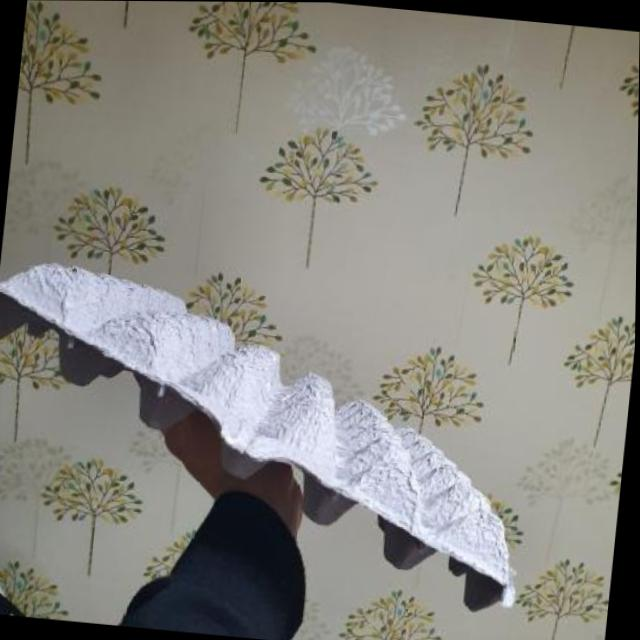box: (0, 204, 624, 640)
